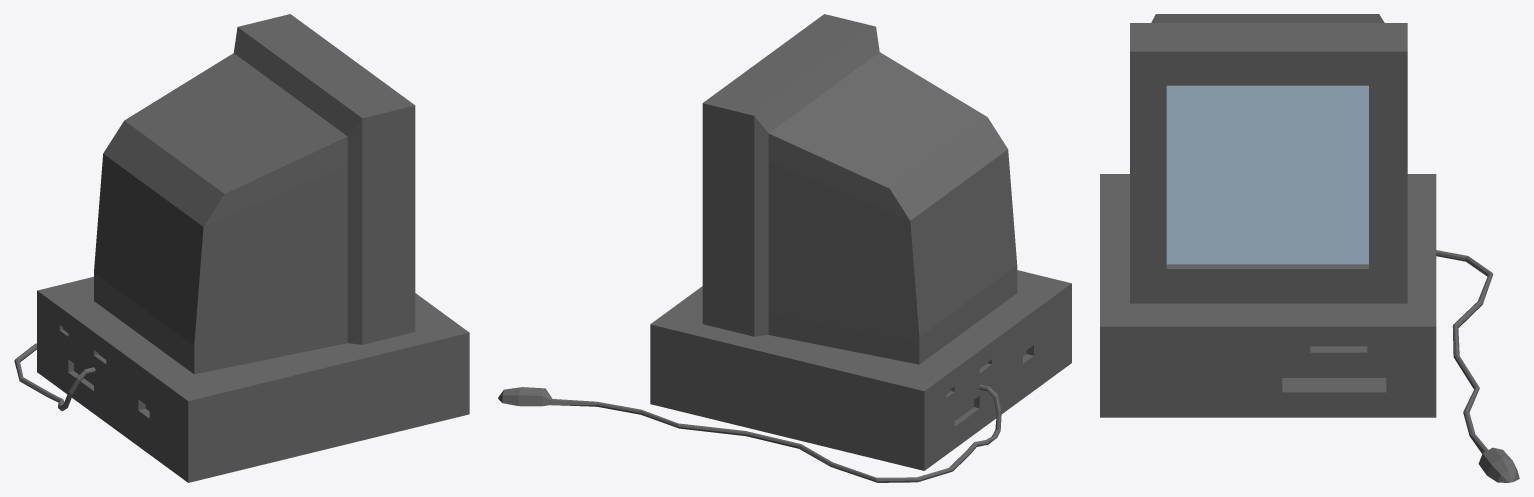
Rendered from ordenador.fbx.
The picture shows the model from 3 angles, left to right: view 1: azimuth 30°, elevation 25°; view 2: azimuth 150°, elevation 25°; view 3: azimuth 270°, elevation 25°; orthographic projection. The views are drawn at different scales.
Visible parts, largest first — view 1: pantalla, torre, raton; view 2: pantalla, torre, raton; view 3: pantalla, torre, raton.
Part boxes in pixels (left/top/right/bottom): pantalla: left=94, top=14, right=415, bottom=374; torre: left=37, top=276, right=469, bottom=482; raton: left=14, top=343, right=95, bottom=411; pantalla: left=702, top=14, right=1017, bottom=364; torre: left=650, top=270, right=1071, bottom=470; raton: left=498, top=384, right=1001, bottom=482; pantalla: left=1130, top=14, right=1407, bottom=303; torre: left=1100, top=174, right=1436, bottom=417; raton: left=1436, top=250, right=1519, bottom=482.
Size of the model in its own units: 906 by 623 by 689.
